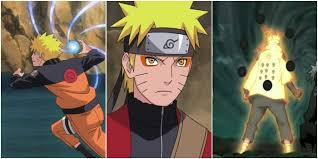Naruto: (121, 1, 199, 112), (24, 32, 65, 69), (260, 28, 290, 55)
